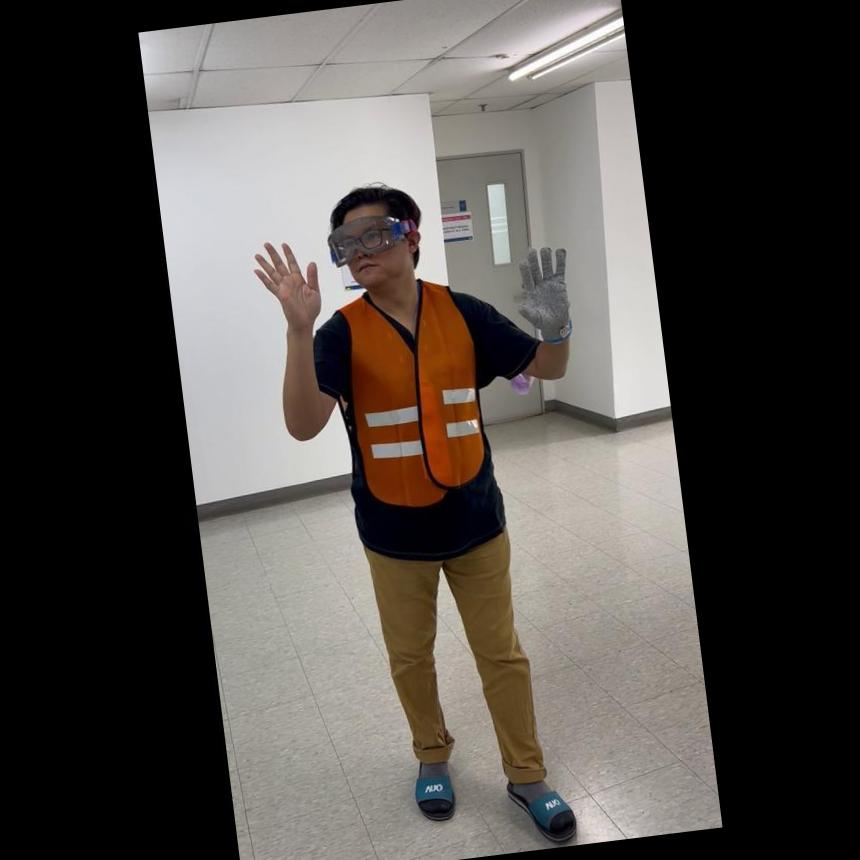Gloves: (505, 237, 579, 344)
No-gloves: (246, 226, 327, 336)
